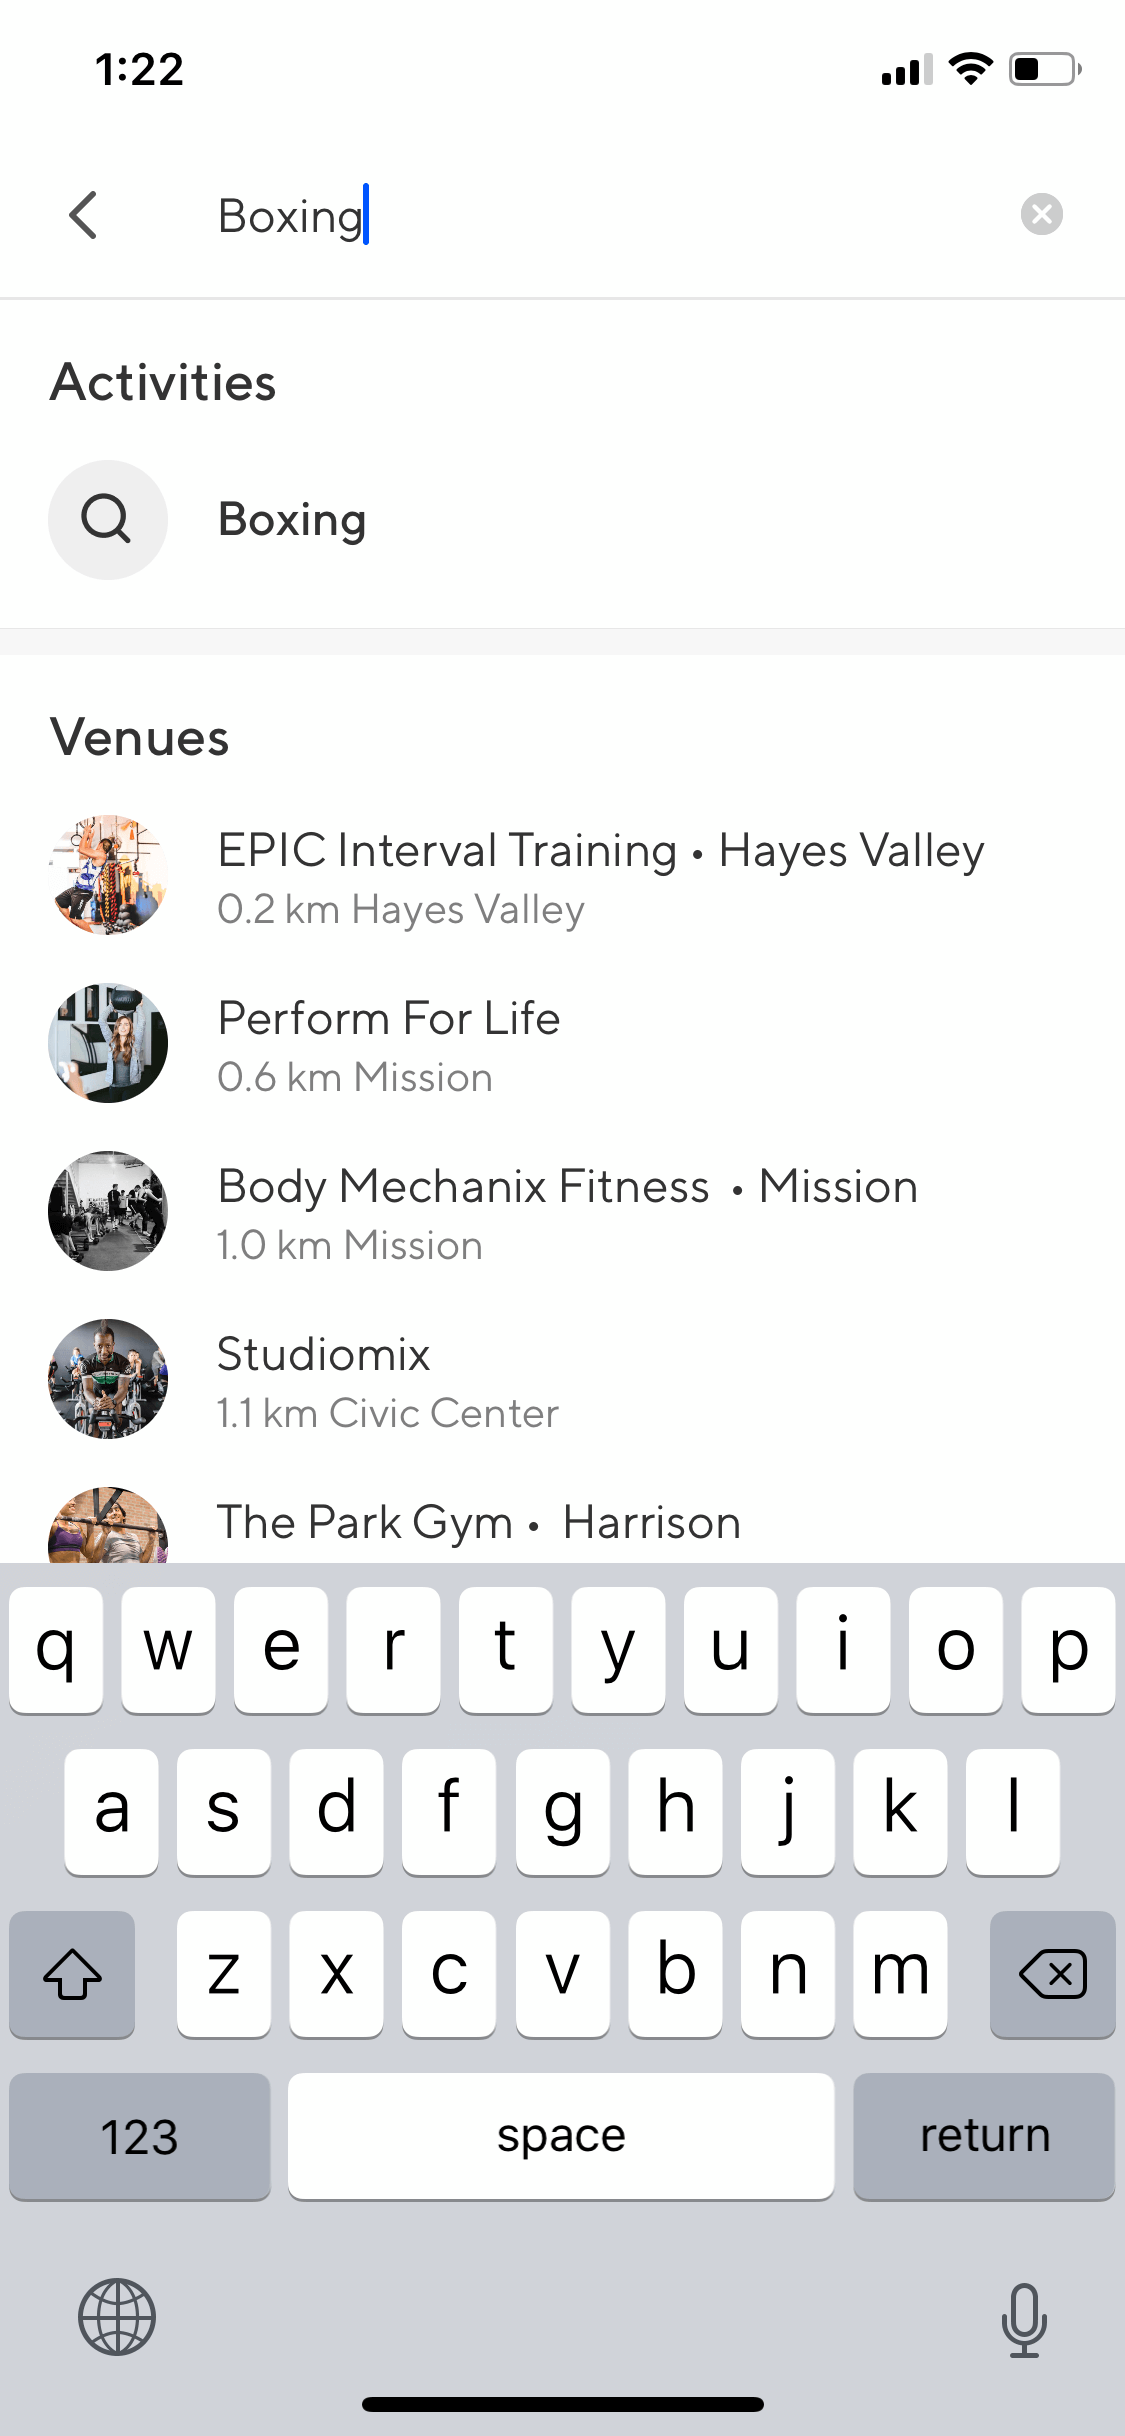Buttons: (44, 157, 143, 266)
Text Fields: (165, 138, 1089, 270)
